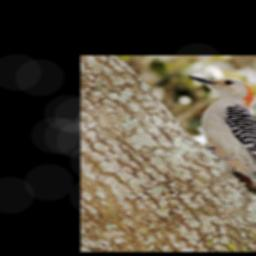Woodpecker: (185, 69, 256, 222)
